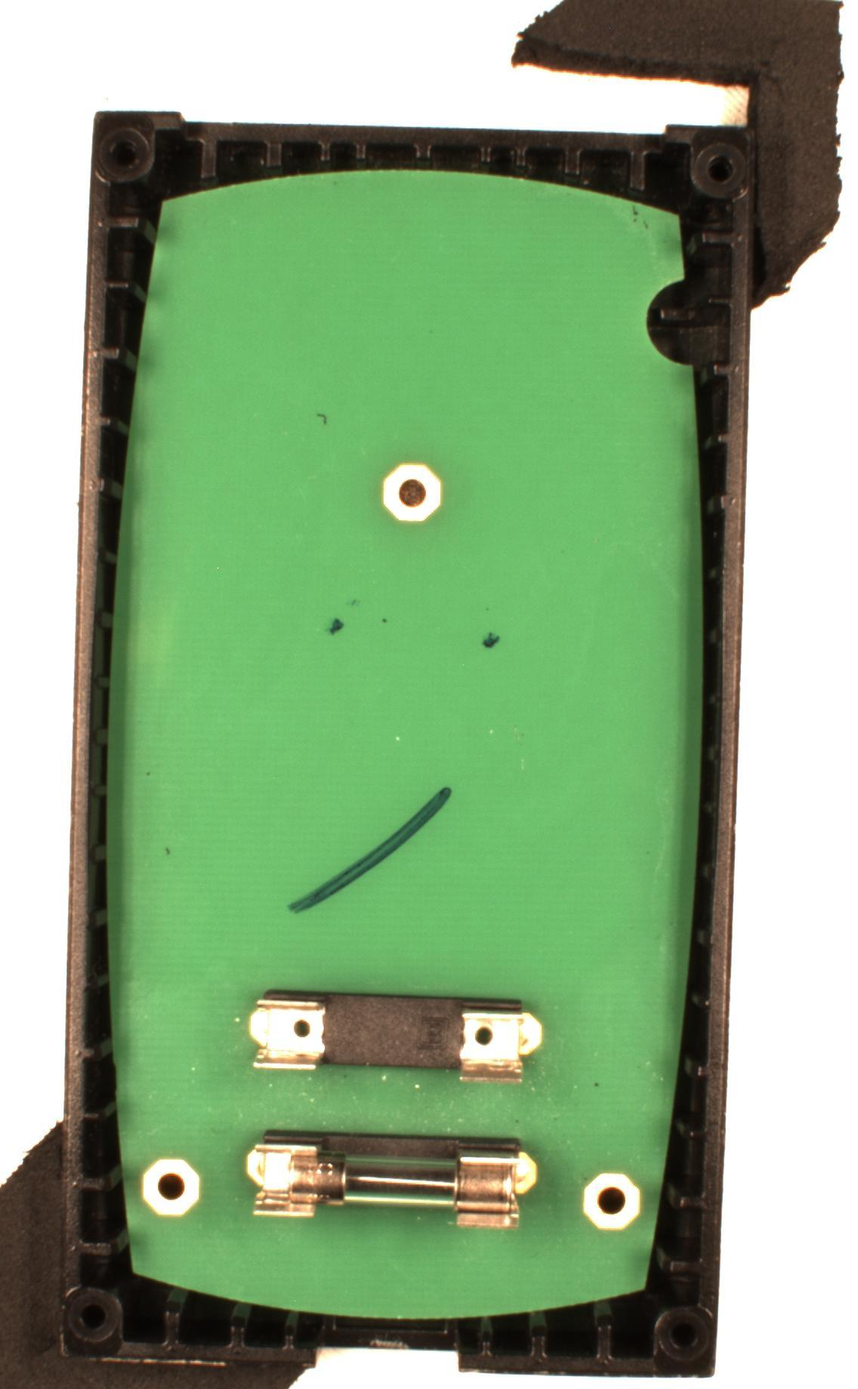Linijsko Ostecene: (286, 786, 453, 914)
Nepostojanje osiguraca: (248, 988, 543, 1085)
Tockasto Ostecenje: (481, 630, 502, 652), (327, 615, 346, 635)
